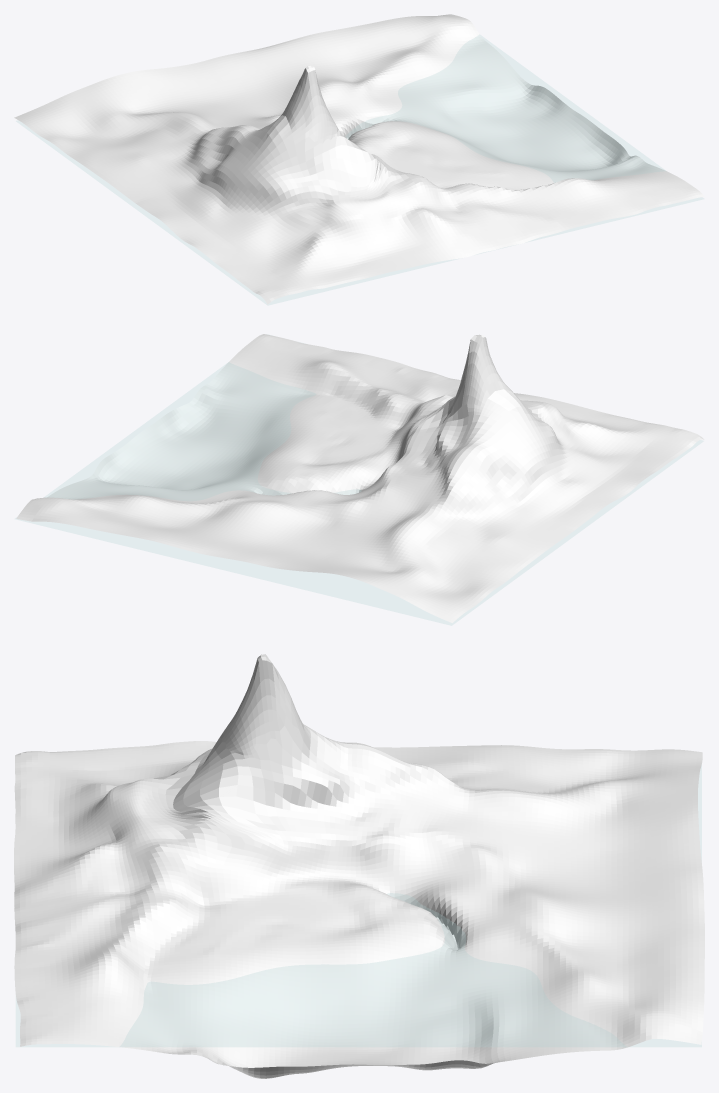
Rendered from mountain.glb.
3 views of the same model, one above another, from view 1: azimuth 30°, elevation 25°; view 2: azimuth 150°, elevation 25°; view 3: azimuth 270°, elevation 25° (orthographic). The views are drawn at different scales.
Visible parts, largest first — view 1: ground, water; view 2: ground, water; view 3: ground, water.
Boxes of the visible parts, x1,y1,x2,y2 form: ground: [14, 14, 704, 304]; water: [16, 35, 703, 305]; ground: [16, 334, 704, 622]; water: [15, 362, 703, 625]; ground: [14, 654, 704, 1078]; water: [16, 766, 701, 1046].
Bounding box in the file's own units: 205 × 73.56 × 201.
